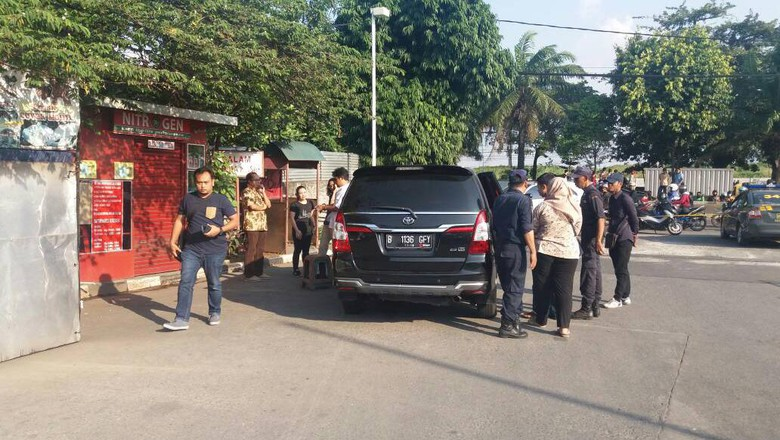plate: (386, 233, 429, 251)
